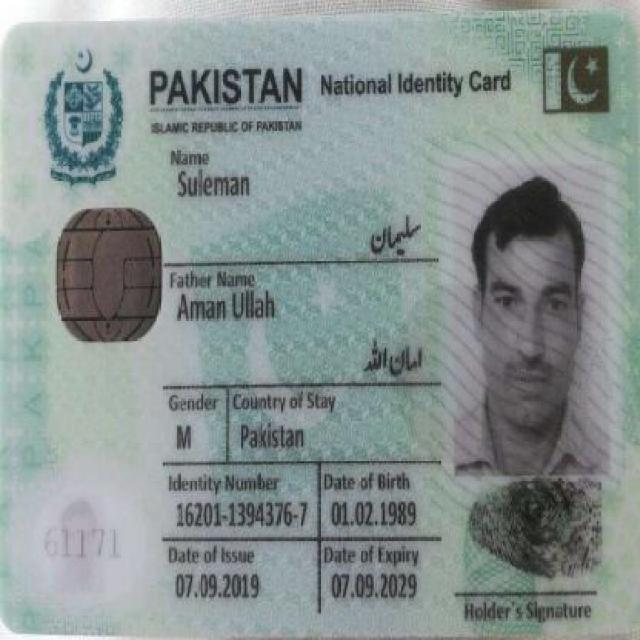Front: (3, 14, 629, 623)
